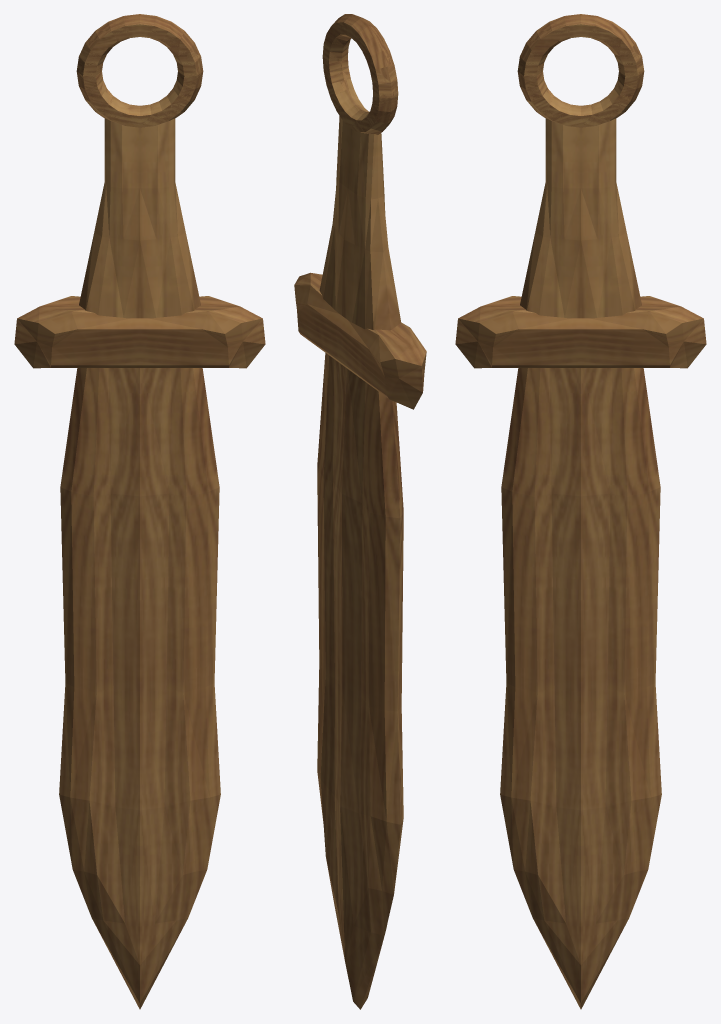
File: woodensword.obj
3 renders of one model, left to right at view 1: azimuth 90°, elevation 25°; view 2: azimuth 210°, elevation 25°; view 3: azimuth 270°, elevation 25°, orthographic.
Parts seen in each view (by area): view 1: Cube; view 2: Cube; view 3: Cube.
Boxes of the visible parts, x1=… form: Cube: x1=14, y1=14, x2=265, y2=1009; Cube: x1=294, y1=14, x2=426, y2=1009; Cube: x1=455, y1=14, x2=706, y2=1009.
Size of the model in its own units: 0.402 by 8.48 by 1.94.
